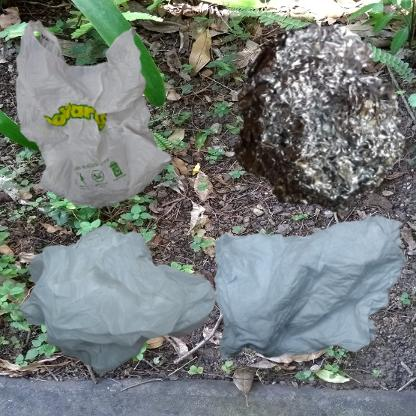aluminio: (213, 10, 416, 236)
bolsa: (10, 213, 236, 401), (10, 10, 177, 216)
papel: (213, 213, 409, 361)
